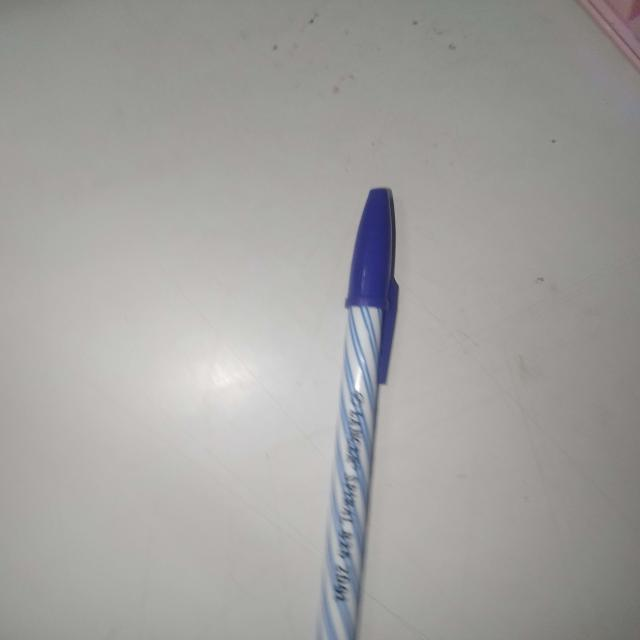pen_pencil: (203, 145, 496, 640)
